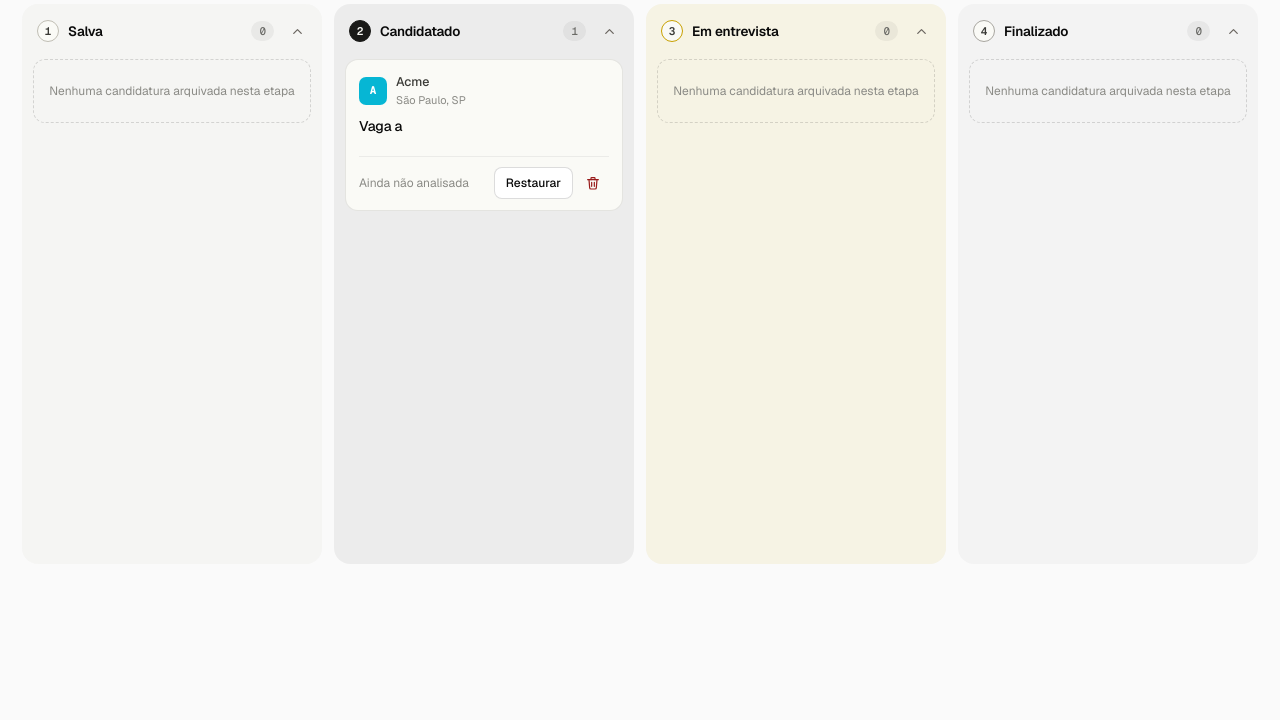
Scenario: KanbanBoard › arquivadas: Restaurar devolve pras ativas
Click the button "Restaurar": (533, 183) [494, 167, 573, 199]
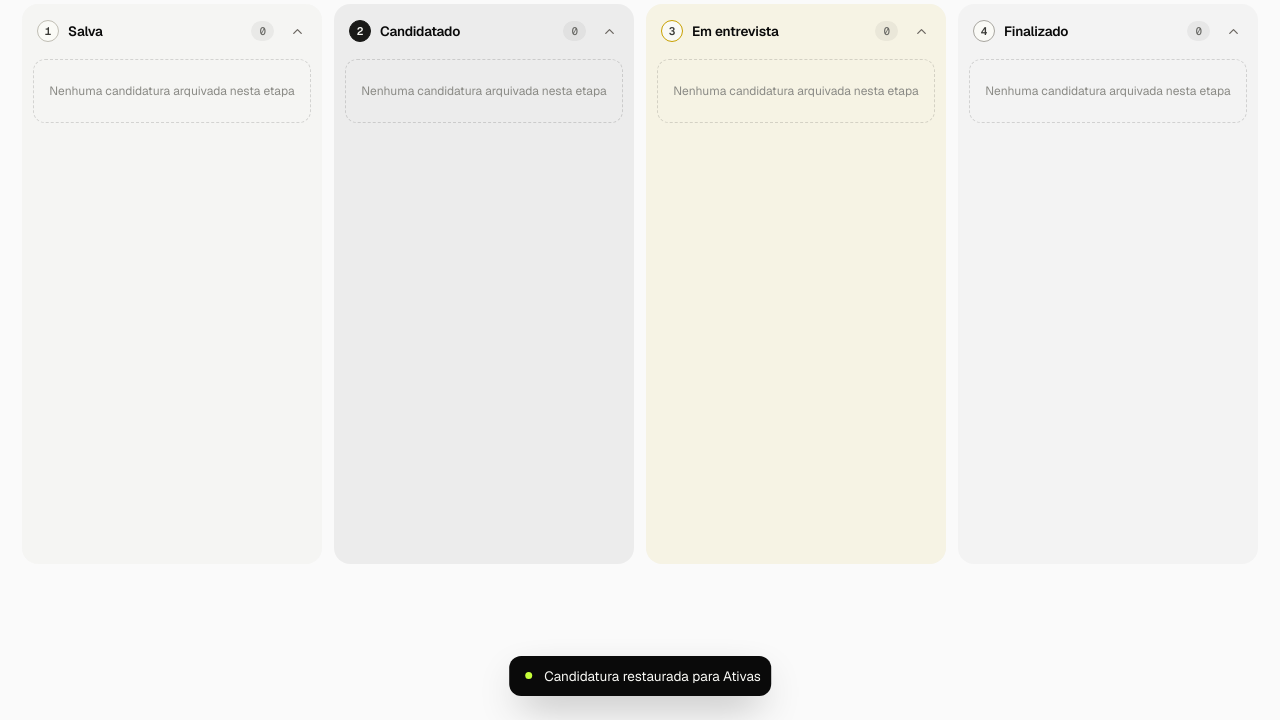
Result: the text "Candidatura restaurada para Ativas" is shown at [544, 666, 761, 686]
